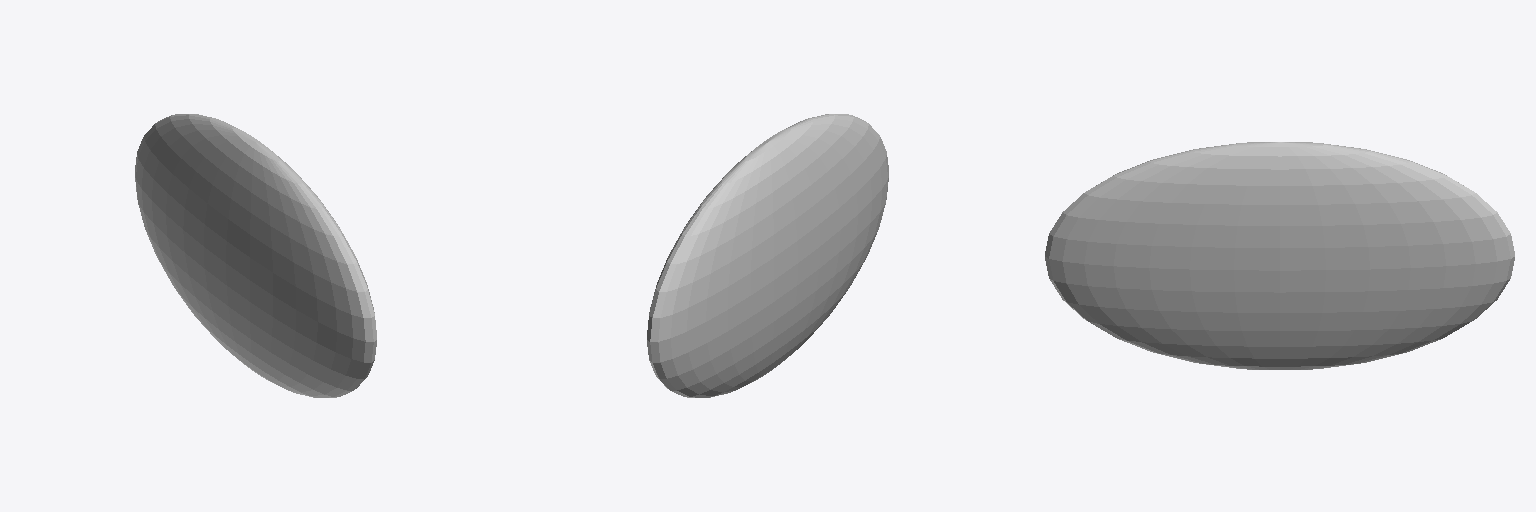
Rendered from oval.obj.
3 views of the same model, side by side, from view 1: azimuth 30°, elevation 25°; view 2: azimuth 150°, elevation 25°; view 3: azimuth 270°, elevation 25° (orthographic).
Visible parts, largest first — view 1: Sphere; view 2: Sphere; view 3: Sphere.
Part boxes in pixels (bbox=[...]): Sphere: bbox=[135, 114, 376, 397]; Sphere: bbox=[647, 114, 888, 397]; Sphere: bbox=[1045, 142, 1514, 369].
Size of the model in its own units: 0.2939 by 1.07 by 2.